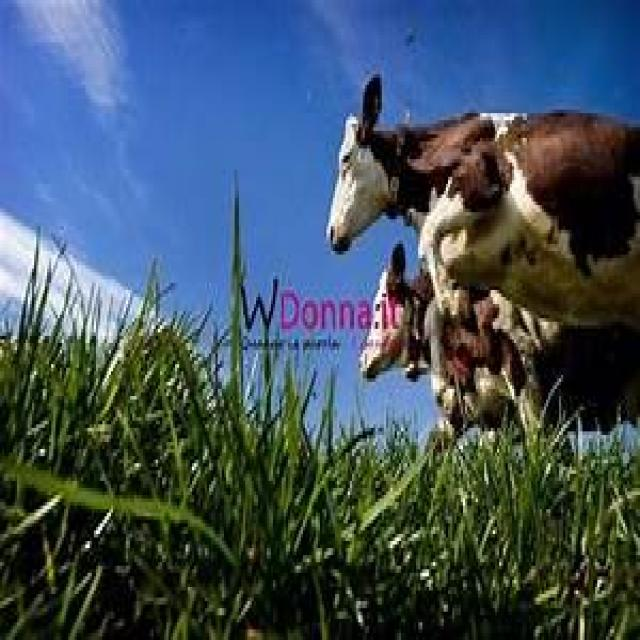cow: (329, 84, 640, 428), (360, 242, 432, 379)
